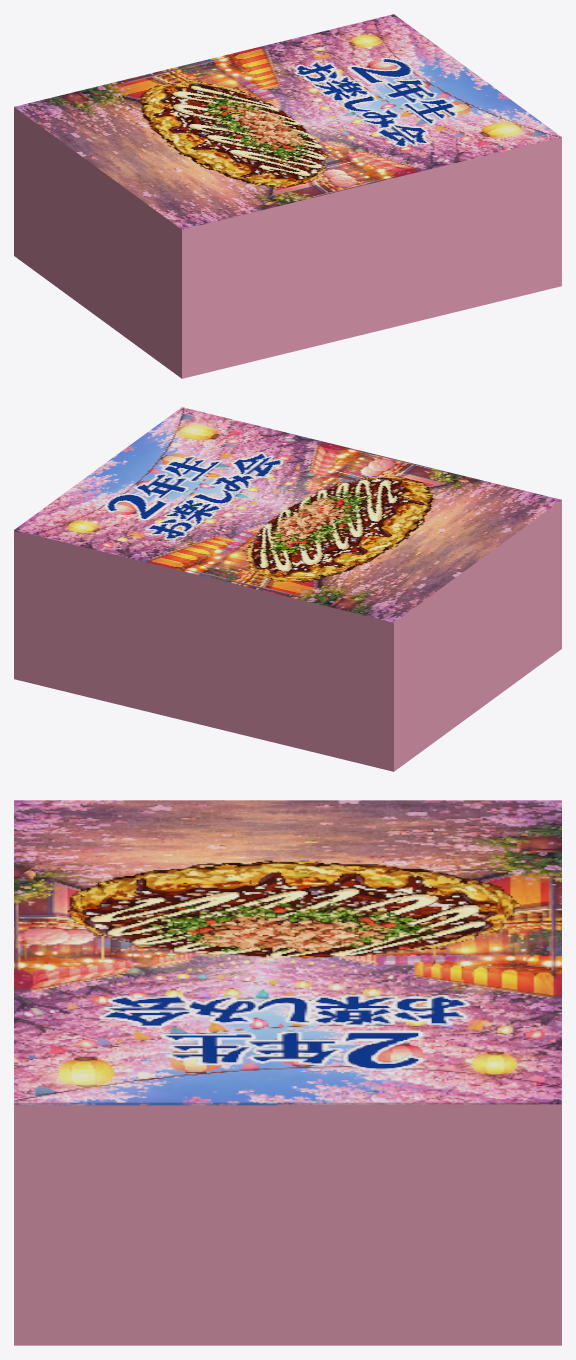
3 views of the same model, one above another, from view 1: azimuth 30°, elevation 25°; view 2: azimuth 150°, elevation 25°; view 3: azimuth 270°, elevation 25° (orthographic). The views are drawn at different scales.
Parts seen in each view (by area): view 1: 立方体; view 2: 立方体; view 3: 立方体.
Boxes of the visible parts, bbox=[...] form: 立方体: bbox=[14, 14, 561, 378]; 立方体: bbox=[14, 407, 561, 771]; 立方体: bbox=[14, 800, 561, 1345].
Size of the model in its own units: 3.89 by 1.46 by 2.98.
Materials: 1 (1 with a texture image).
